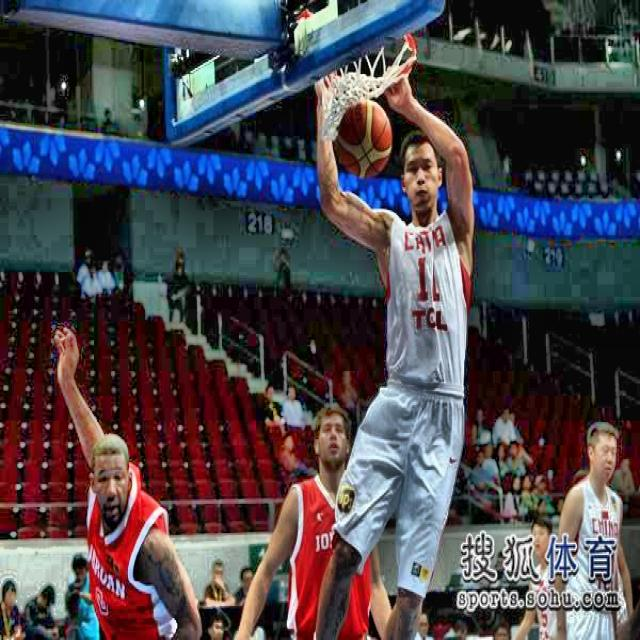board: (337, 100, 393, 180)
